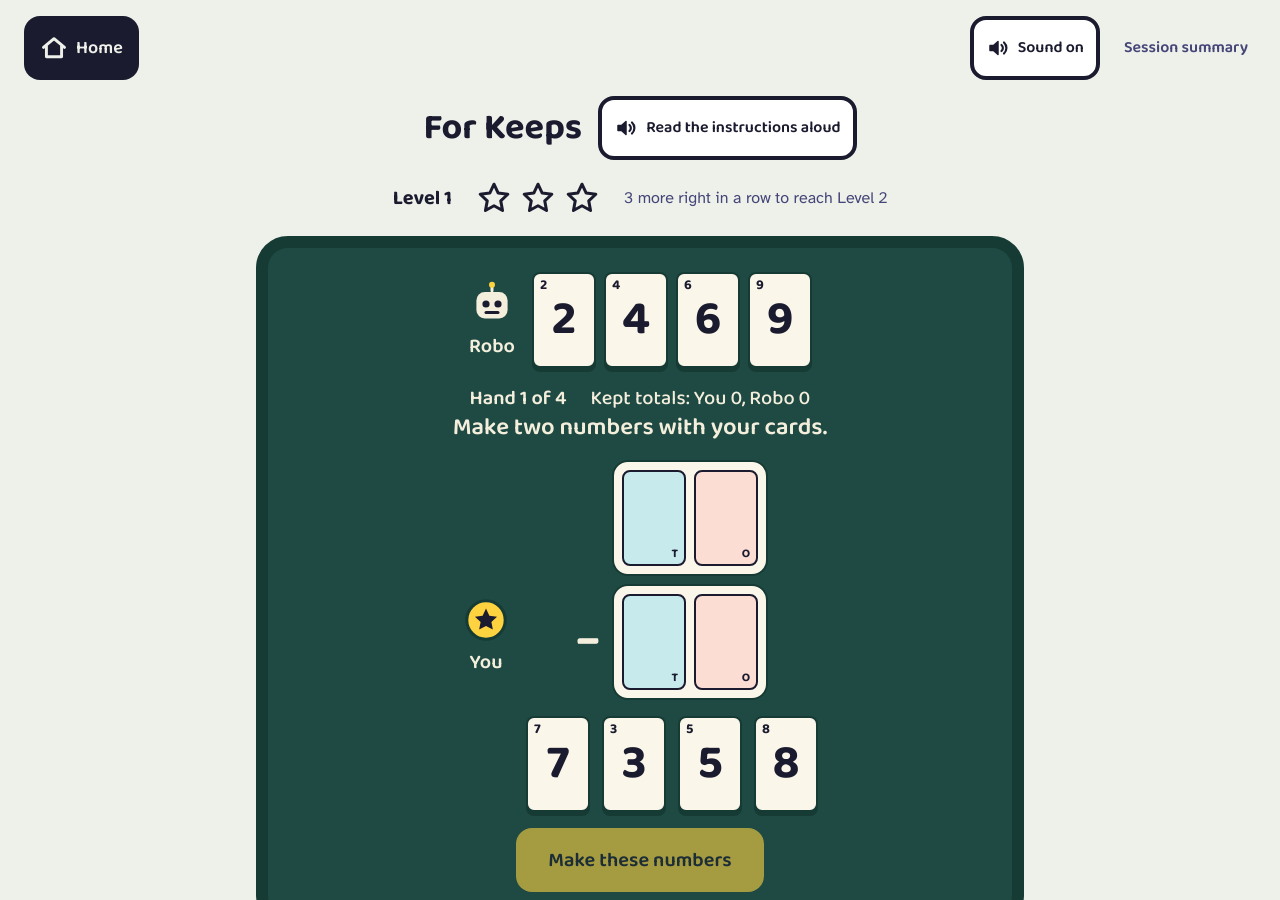
it: tapping a placed card sends it back, and the next card fills that slot
Click the button "7 7": (558, 764) [526,716,590,812]
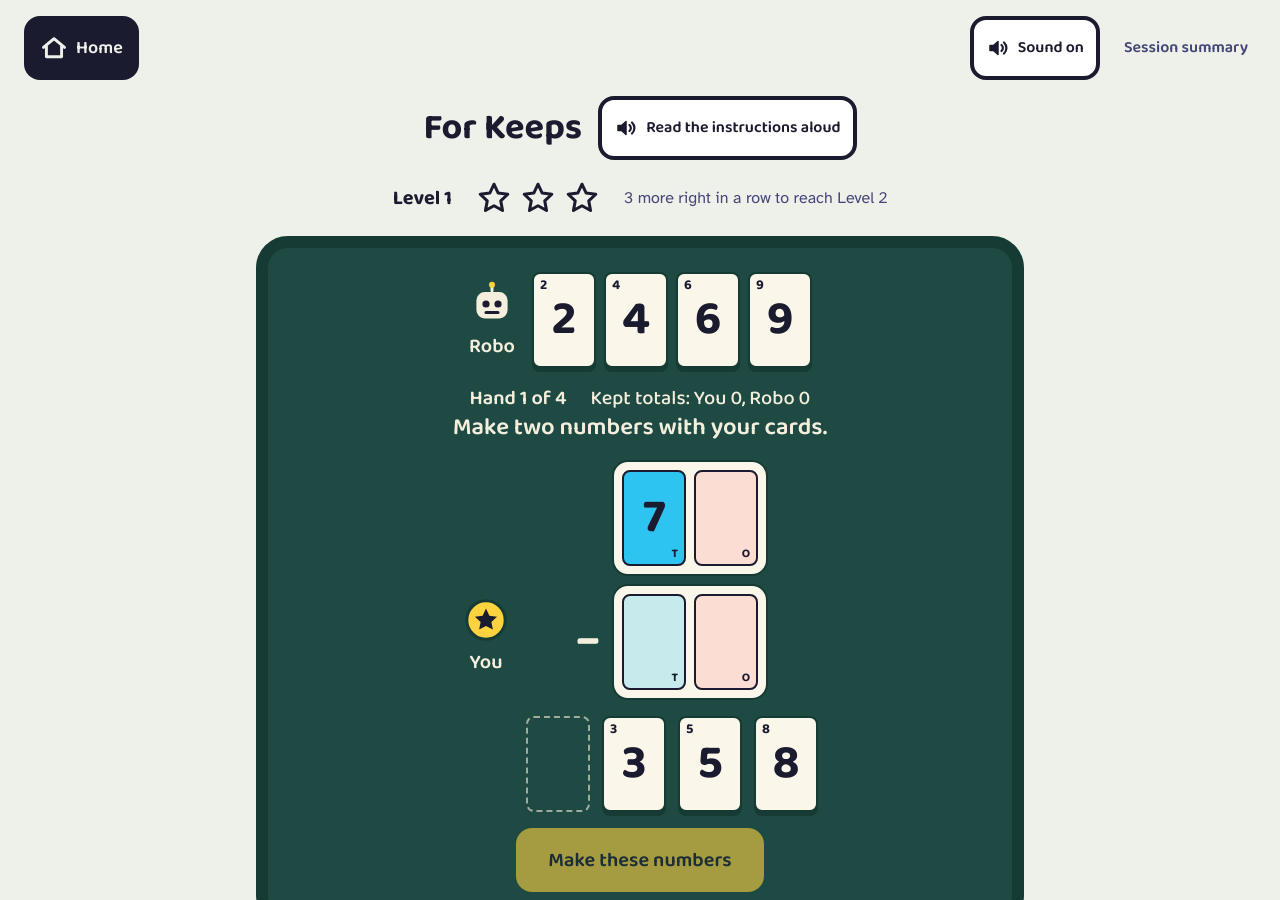
Click the button named "Card 3": (634, 764) [602,716,666,812]
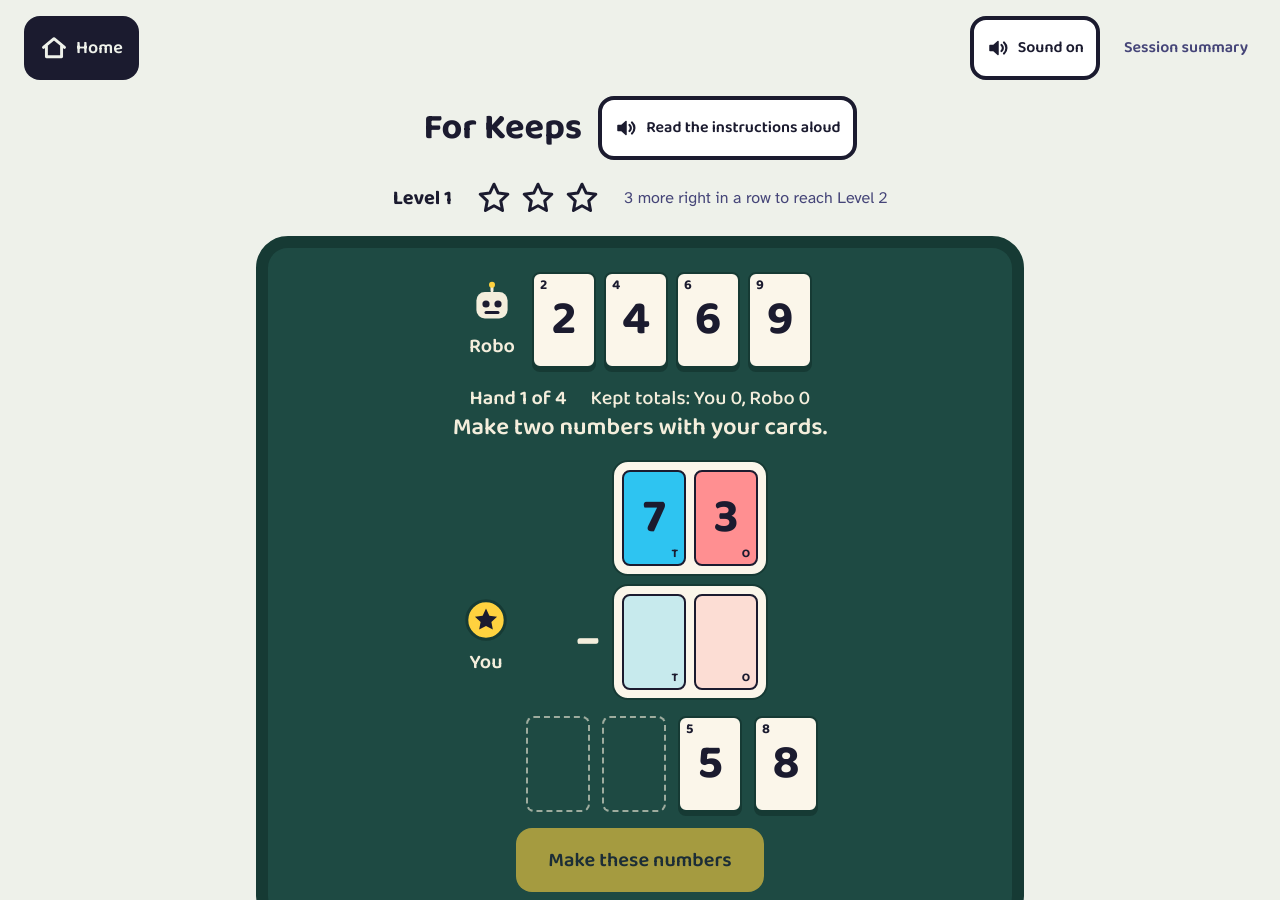
Click the button named "Top number tens: 7": (654, 518) [622,470,686,566]
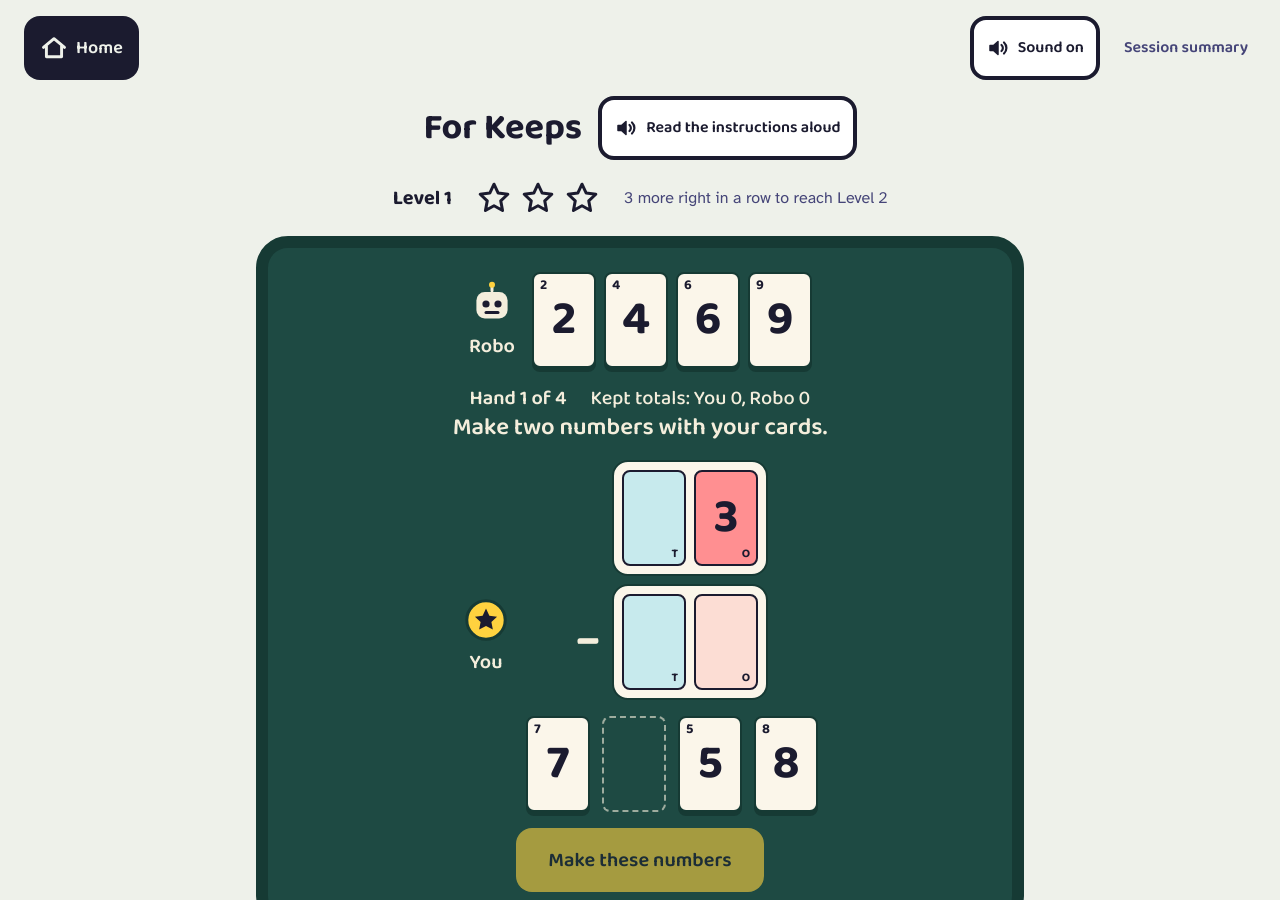
Expected: the button named "Top number tens: empty" is shown, [622,470,686,566]
Click the button named "Card 5": (710, 764) [678,716,742,812]
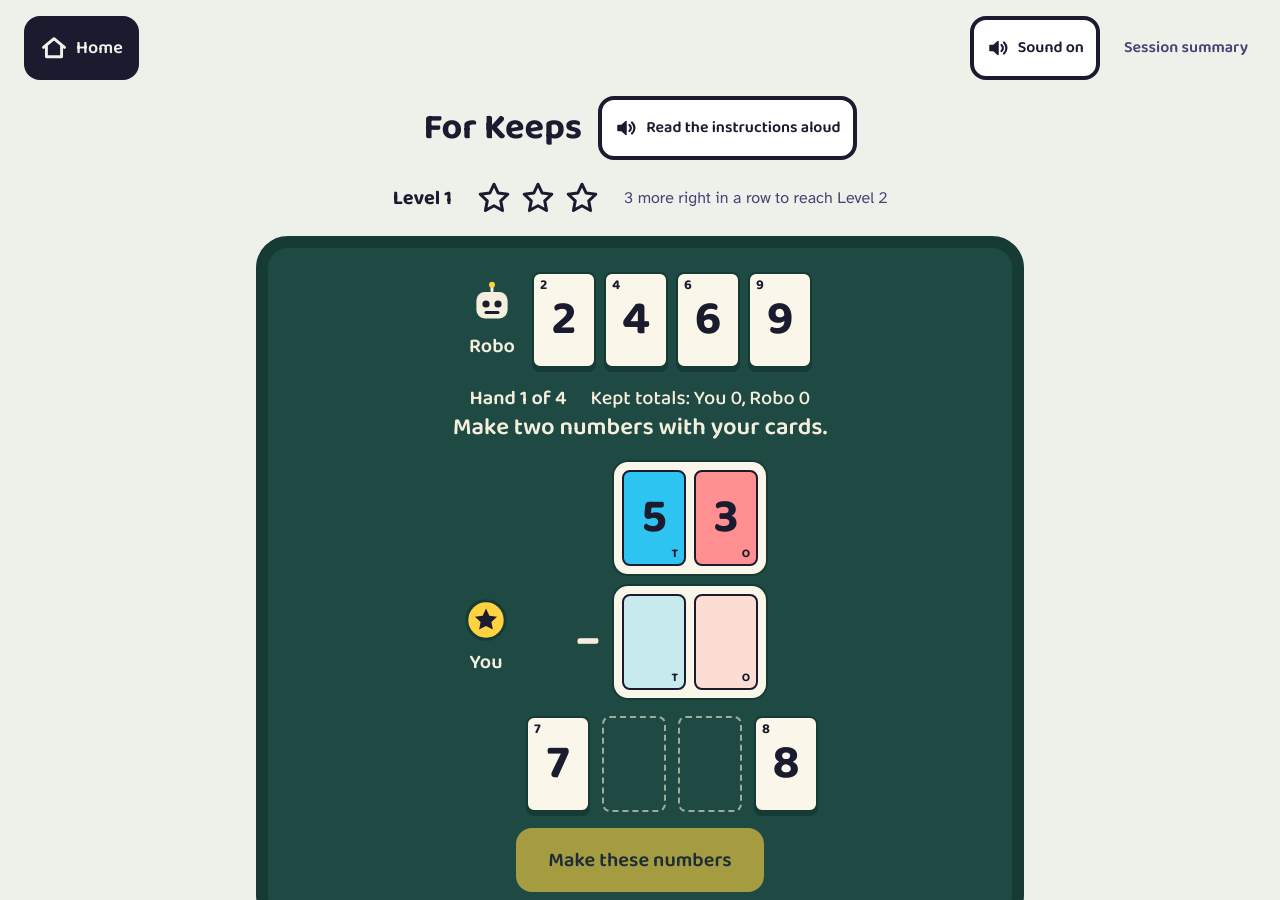
Expected: the button named "Top number ones: 3" is shown, [694,470,758,566]
Expected: the button named "Top number tens: 5" is shown, [622,470,686,566]
